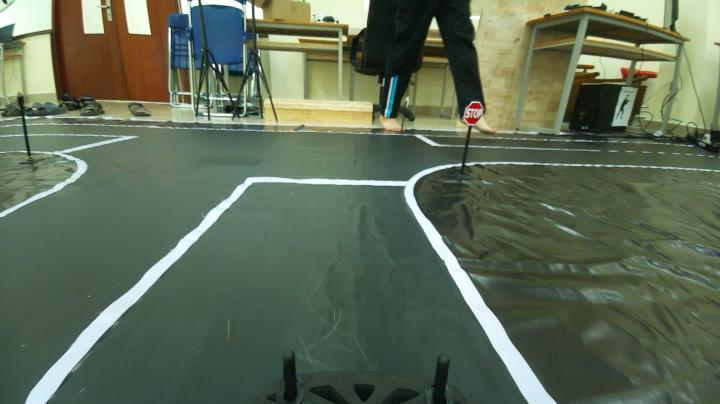stop: (458, 95, 484, 129)
